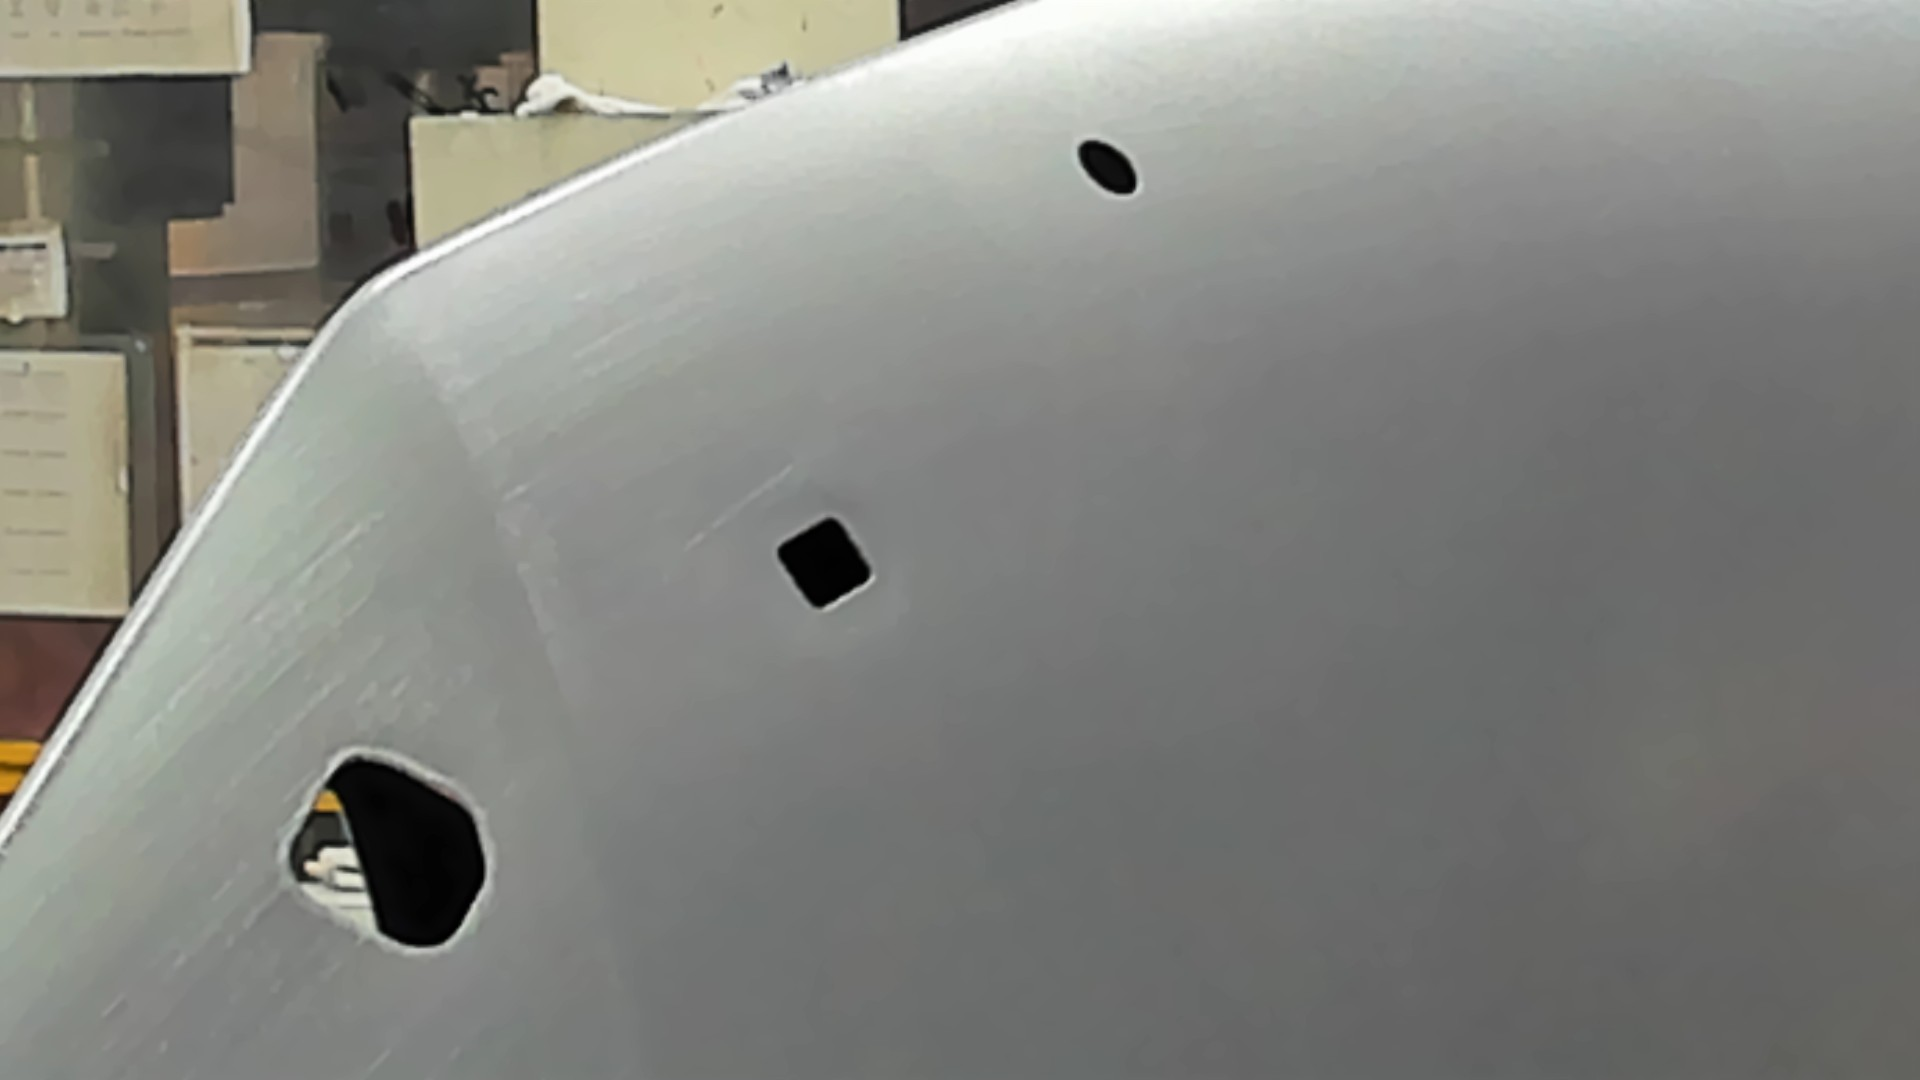chico: (1073, 135, 1139, 199)
grande: (278, 742, 493, 961)
mediano: (771, 509, 880, 615)
